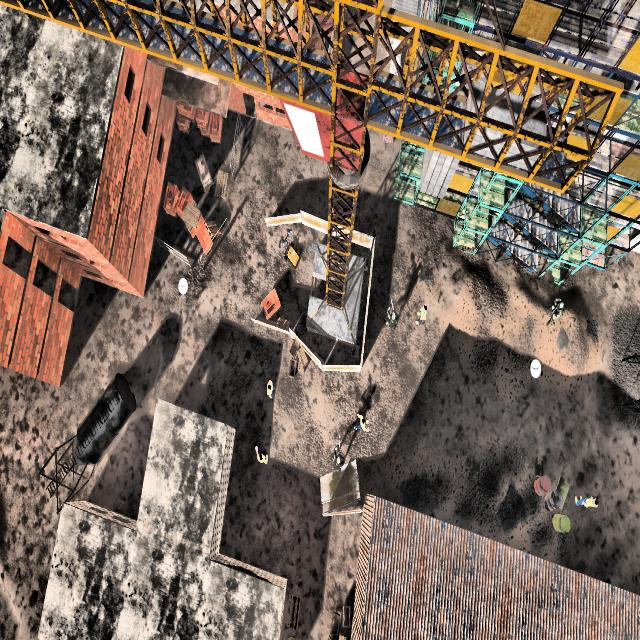bad: (329, 434, 349, 474), (381, 298, 402, 332), (547, 291, 565, 327)
good: (577, 480, 601, 524), (351, 401, 371, 447), (414, 291, 430, 332), (261, 369, 278, 407), (252, 443, 272, 475)
